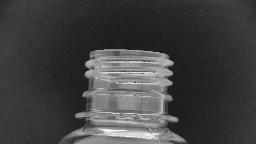No Cap: (70, 47, 182, 127)
